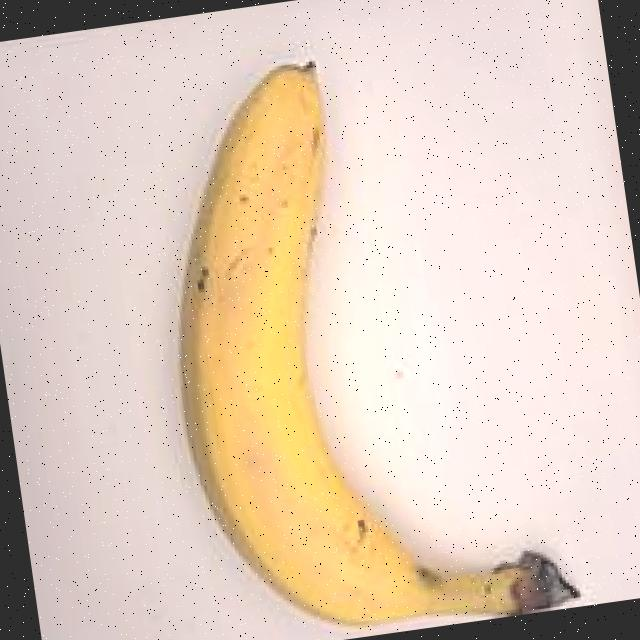Ripe: (74, 4, 597, 640)
